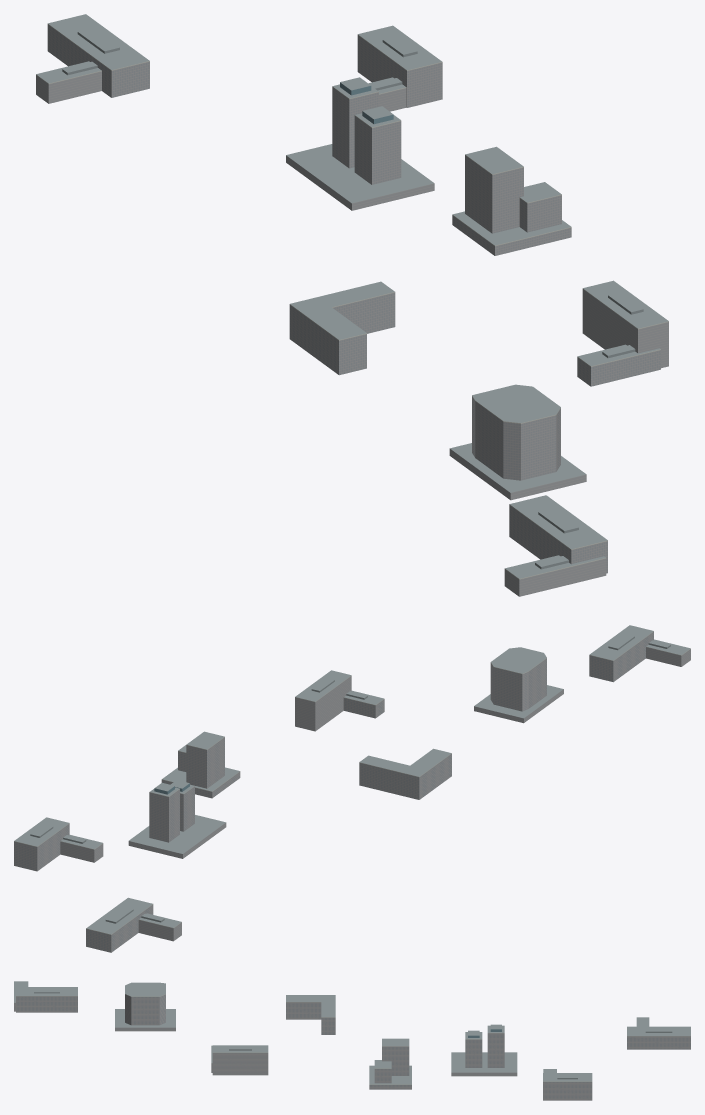
The model's file is skyline.glb.
3 renders of one model, top to bottom at view 1: azimuth 30°, elevation 25°; view 2: azimuth 150°, elevation 25°; view 3: azimuth 270°, elevation 25°, orthographic. The views are drawn at different scales.
Parts seen in each view (by area): view 1: Authored_distant_architectural_blocks; view 2: Authored_distant_architectural_blocks; view 3: Authored_distant_architectural_blocks.
Boxes of the visible parts, x1,y1,x2,y2 form: Authored_distant_architectural_blocks: [36, 14, 668, 596]; Authored_distant_architectural_blocks: [14, 625, 690, 952]; Authored_distant_architectural_blocks: [14, 981, 690, 1100].
Size of the model in its own units: 612 by 106 by 1588.
Materials: 6 (3 with a texture image).
